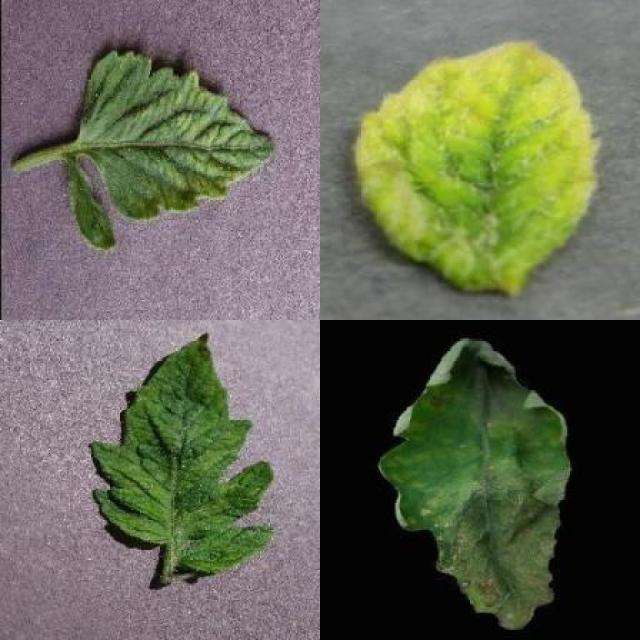Late Blight: (378, 340, 573, 630)
Mosaic Virus: (86, 330, 274, 576), (66, 45, 280, 252)
Yellow Leaf Curl Virus: (351, 41, 600, 292)
